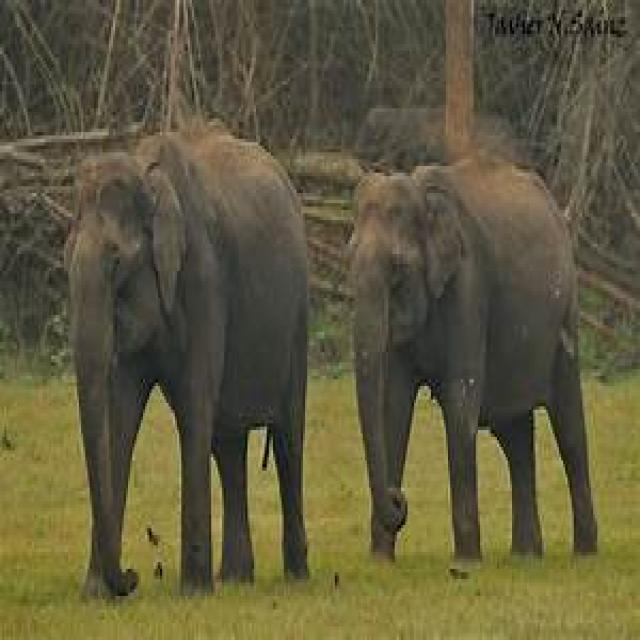elephant: (64, 129, 311, 603), (348, 156, 599, 579)
